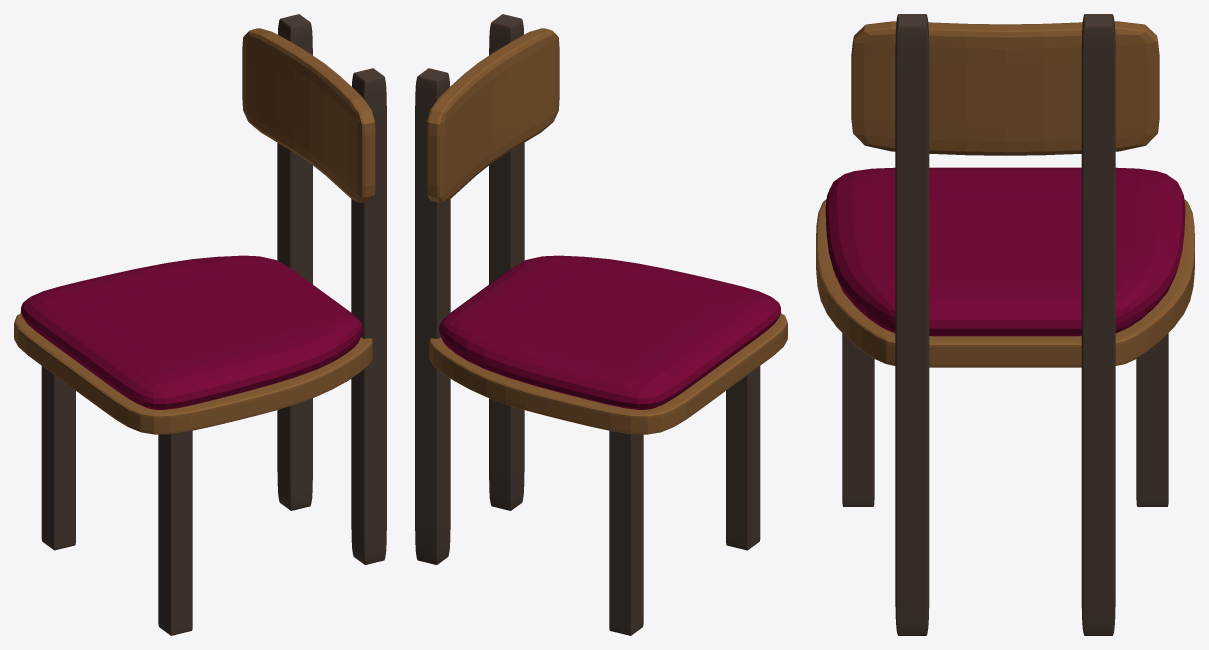
The model's file is Chair.fbx.
3 renders of one model, left to right at view 1: azimuth 30°, elevation 25°; view 2: azimuth 150°, elevation 25°; view 3: azimuth 270°, elevation 25°, orthographic. The views are drawn at different scales.
Visible parts, largest first — view 1: Chair Legs, Seat Pillow, Seat Wood; view 2: Chair Legs, Seat Pillow, Seat Wood; view 3: Chair Legs, Seat Pillow, Seat Wood.
Boxes of the visible parts, box(x1,y1,x2,y2) form: Chair Legs: box(41, 14, 386, 635); Seat Pillow: box(20, 255, 362, 409); Seat Wood: box(14, 28, 375, 434); Chair Legs: box(415, 14, 760, 635); Seat Pillow: box(439, 255, 781, 409); Seat Wood: box(426, 28, 787, 434); Chair Legs: box(842, 14, 1168, 635); Seat Pillow: box(825, 167, 1185, 336); Seat Wood: box(816, 21, 1194, 367).
Size of the model in its own units: 185 by 316 by 177.
